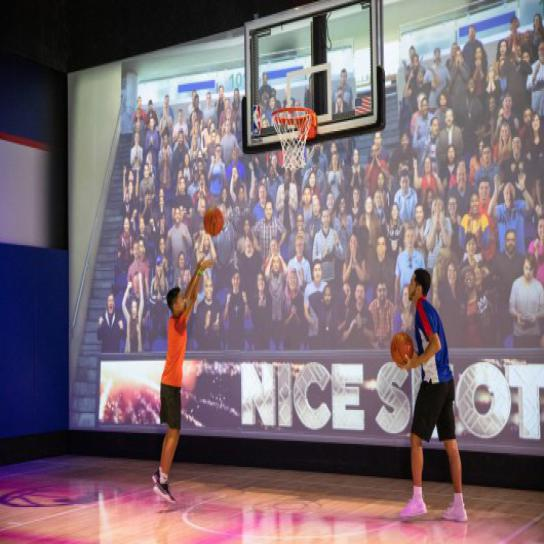basketball-hoop: (270, 105, 315, 169)
